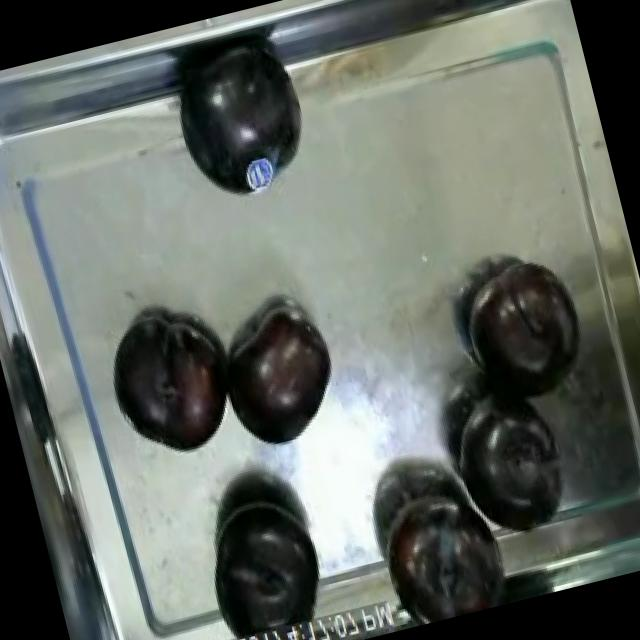Fruit: (150, 17, 328, 214), (93, 300, 243, 470), (210, 294, 358, 462), (189, 478, 338, 640), (446, 245, 592, 406), (440, 389, 578, 545), (230, 147, 288, 204)
